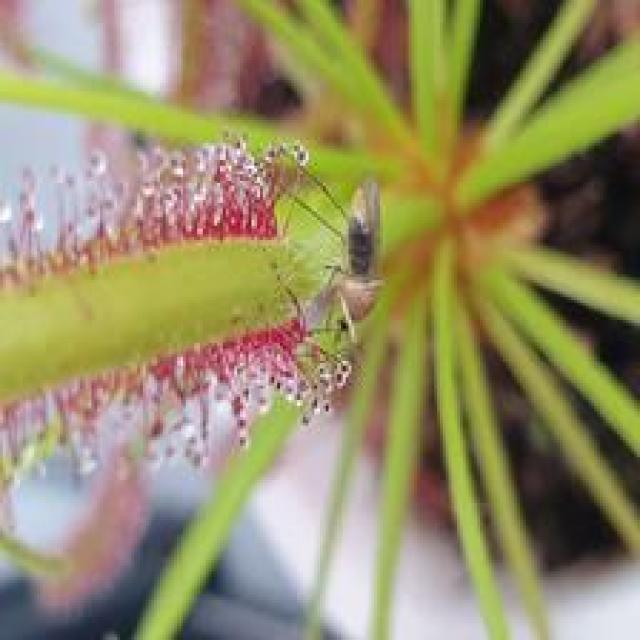Culex: (0, 129, 386, 614)
